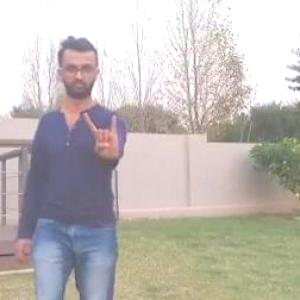takeoff-hand: (80, 106, 126, 165)
